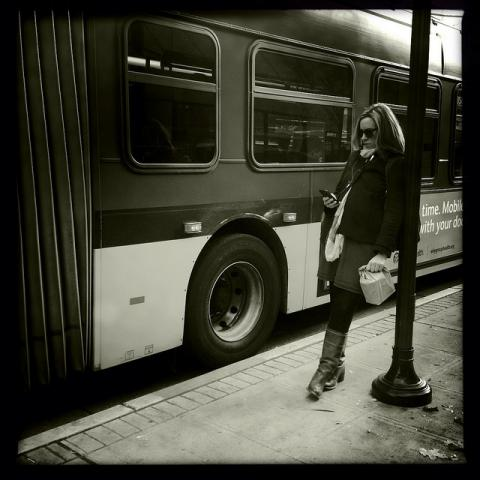bus: (1, 2, 463, 423)
